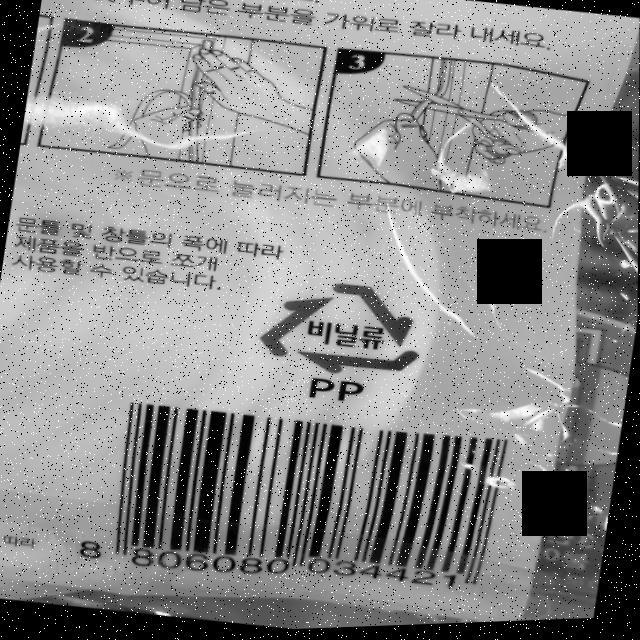Vinyl: (254, 266, 430, 392)
